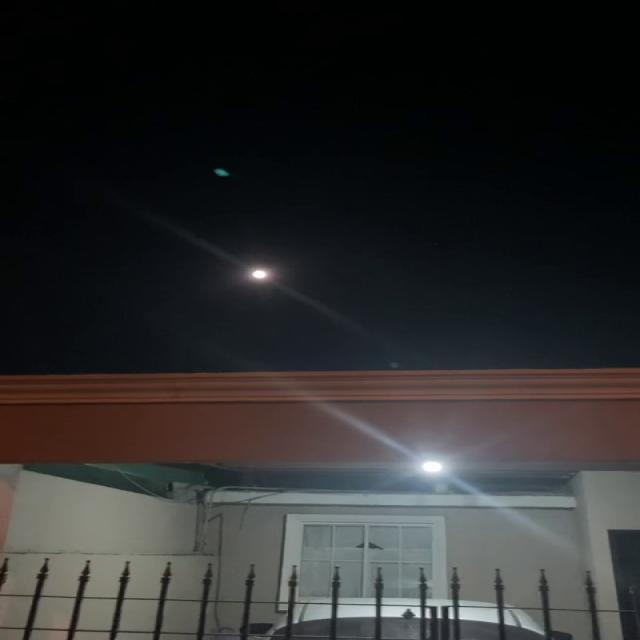moon: (235, 256, 278, 286)
